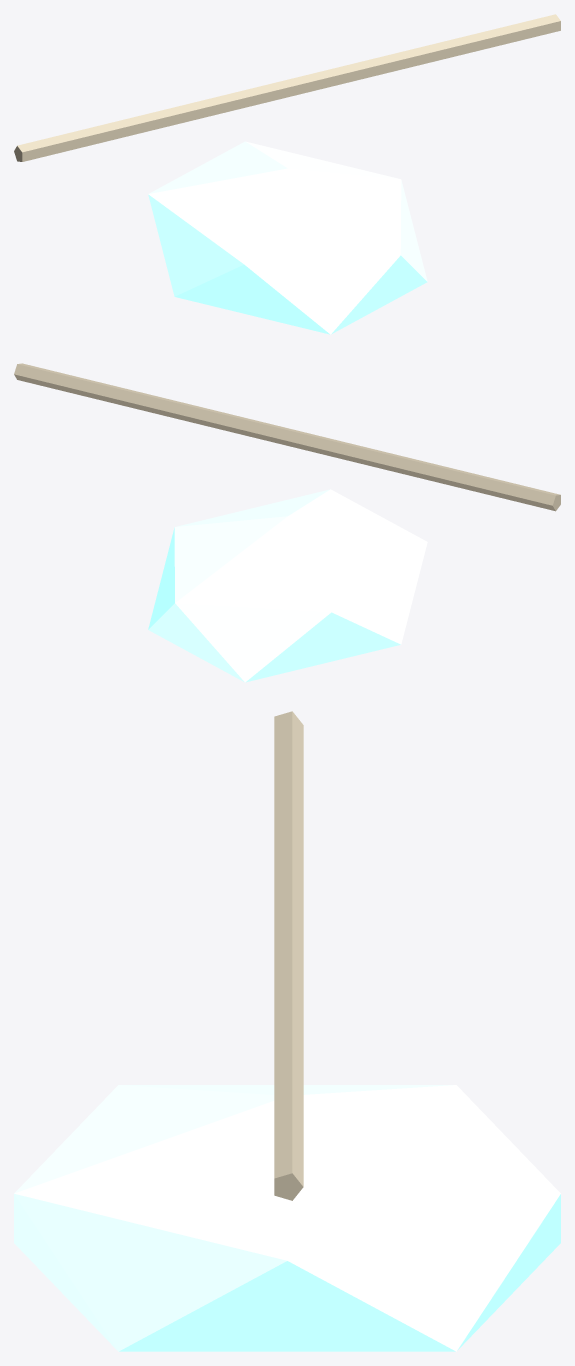
Rendered from wardAmulet.glb.
3 renders of one model, top to bottom at view 1: azimuth 30°, elevation 25°; view 2: azimuth 150°, elevation 25°; view 3: azimuth 270°, elevation 25°, orthographic. The views are drawn at different scales.
Parts seen in each view (by area): view 1: CharmCore, CharmCord; view 2: CharmCore, CharmCord; view 3: CharmCore, CharmCord.
Part boxes in pixels (x1=…): CharmCore: x1=148, y1=141, x2=427, y2=334; CharmCord: x1=14, y1=14, x2=560, y2=161; CharmCore: x1=148, y1=489, x2=427, y2=682; CharmCord: x1=14, y1=363, x2=560, y2=511; CharmCore: x1=14, y1=1085, x2=560, y2=1351; CharmCord: x1=274, y1=711, x2=303, y2=1200.
Size of the model in its own units: 0.68 by 0.2735 by 0.3403.
